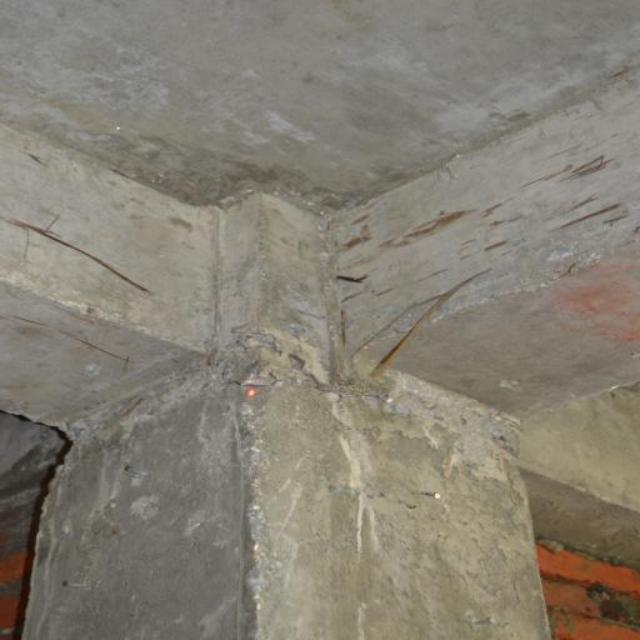D10: (2, 406, 77, 639)
